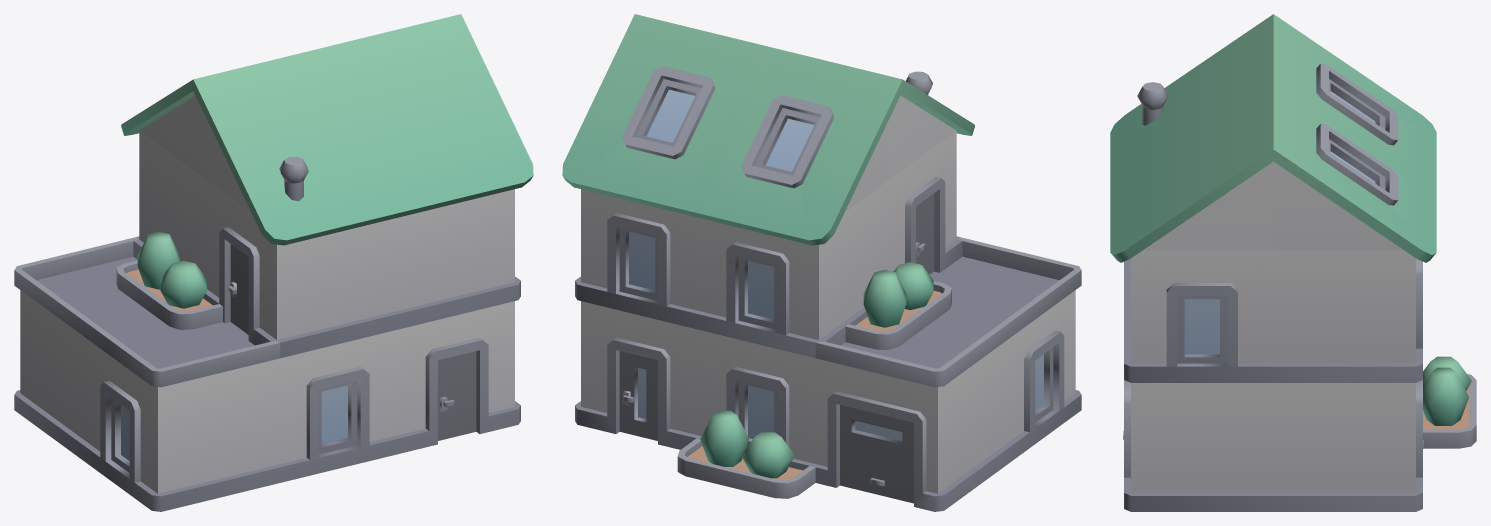
File: building-type-o.glb
The picture shows the model from 3 angles, left to right: view 1: azimuth 30°, elevation 25°; view 2: azimuth 150°, elevation 25°; view 3: azimuth 270°, elevation 25°; orthographic projection. The views are drawn at different scales.
Parts seen in each view (by area): view 1: building-type-o; view 2: building-type-o; view 3: building-type-o.
Part boxes in pixels (x1,y1,x2,y2): building-type-o: (14,14,533,511); building-type-o: (562,14,1081,511); building-type-o: (1110,14,1476,511).
Size of the model in its own units: 1.27 by 1.14 by 1.03.
